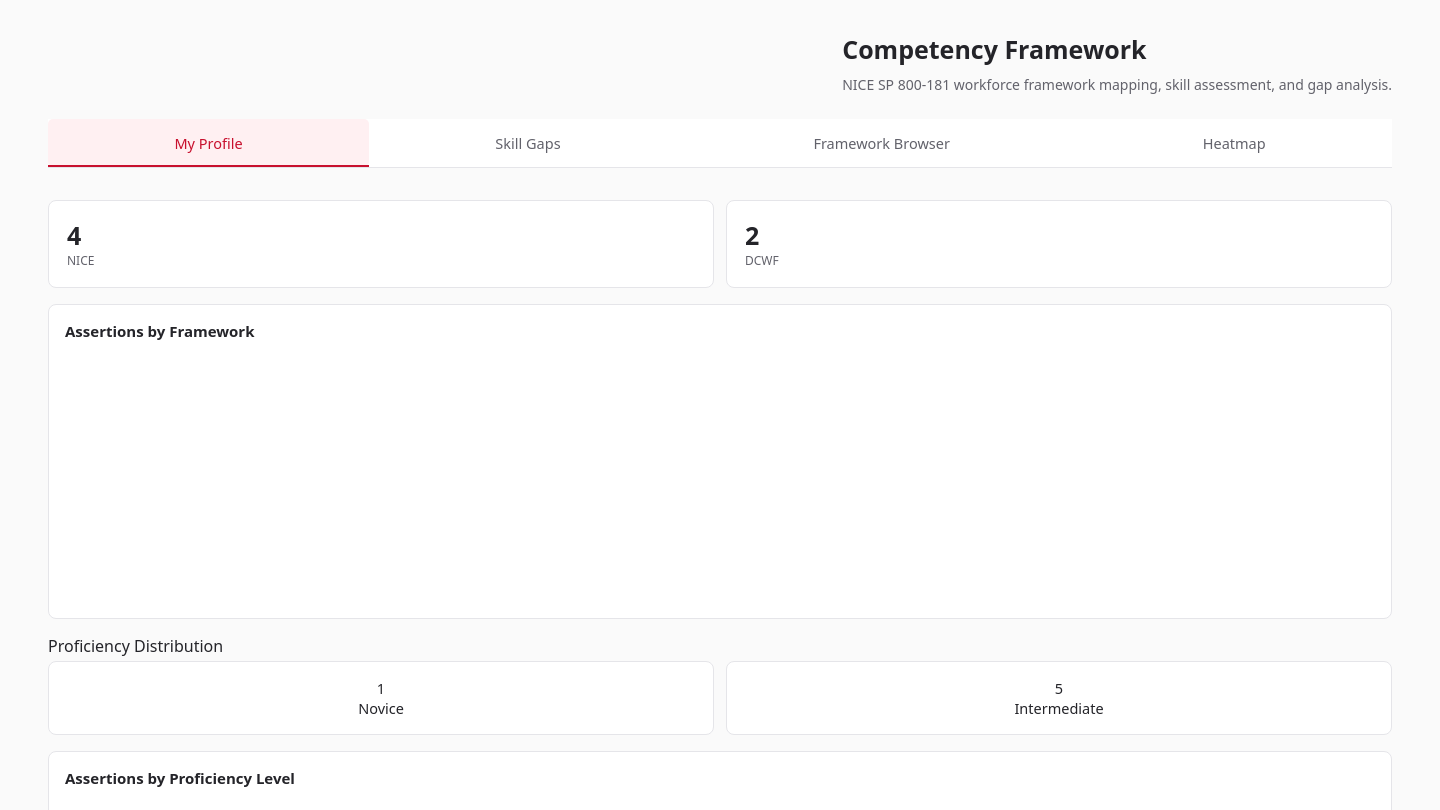
Scenario: CompetencyComponent › prompts to import when the framework request fails
What coordinates should you click on to do the following:
click the tab "Framework Browser"
I would click on:
 (882, 143)
Its box is [813,133,950,153].
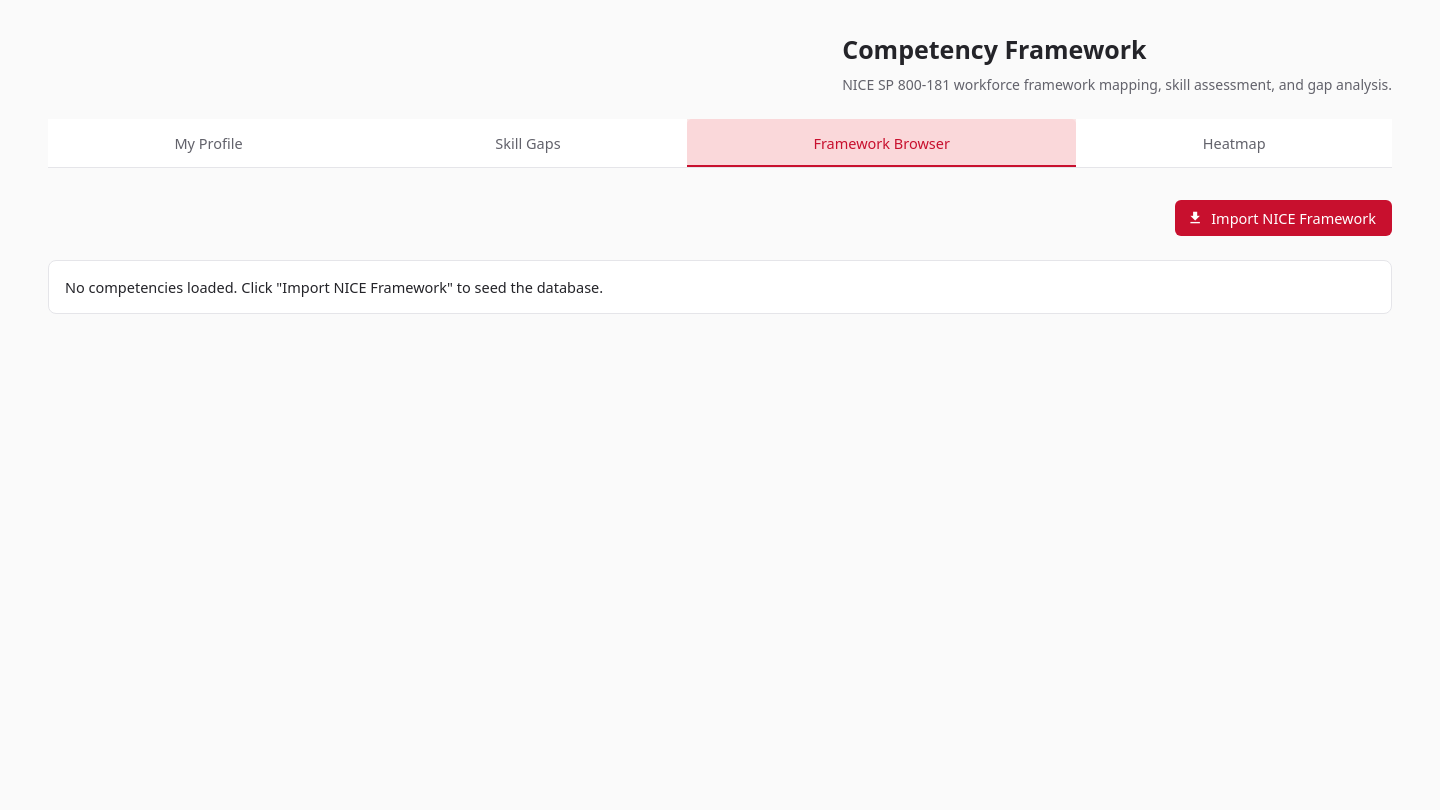
Now the text "No competencies loaded" is shown, box [65,277,241,297]
